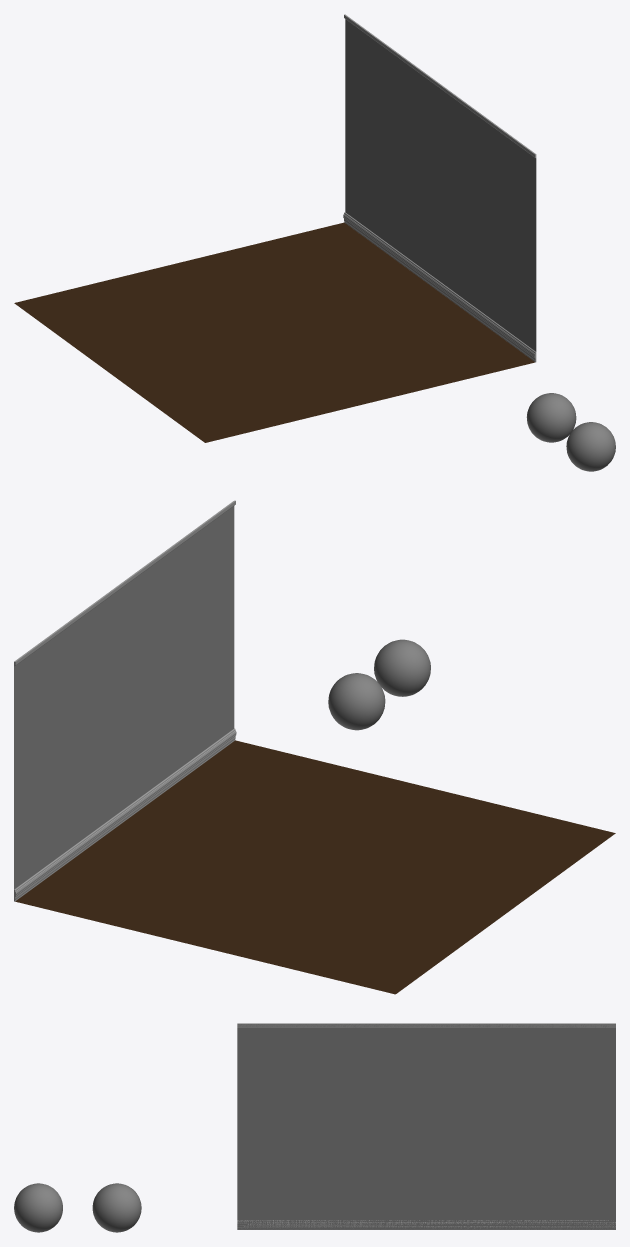
File: Wallpaper FBX Corona.FBX
3 renders of one model, top to bottom at view 1: azimuth 30°, elevation 25°; view 2: azimuth 150°, elevation 25°; view 3: azimuth 270°, elevation 25°, orthographic. The views are drawn at different scales.
Visible parts, largest first — view 1: Parquet, Wall, Baseboard 1, Wallpaper Material 3, Wallpaper Material 2, Baseboard 2; view 2: Parquet, Wall, Baseboard 1, Wallpaper Material 2, Wallpaper Material 3, Baseboard 2; view 3: Wall, Baseboard 1, Wallpaper Material 3, Wallpaper Material 2, Baseboard 2.
Boxes of the visible parts, x1,y1,x2,y2 form: Parquet: [14, 222, 534, 442]; Wall: [345, 19, 536, 351]; Baseboard 1: [343, 212, 536, 362]; Wallpaper Material 3: [566, 422, 615, 471]; Wallpaper Material 2: [526, 393, 576, 442]; Baseboard 2: [344, 14, 536, 157]; Parquet: [15, 740, 615, 994]; Wall: [14, 506, 234, 889]; Baseboard 1: [14, 728, 236, 901]; Wallpaper Material 2: [328, 673, 385, 730]; Wallpaper Material 3: [374, 639, 430, 696]; Baseboard 2: [14, 500, 235, 666]; Wall: [237, 1024, 615, 1229]; Baseboard 1: [237, 1220, 615, 1229]; Wallpaper Material 3: [14, 1183, 62, 1232]; Wallpaper Material 2: [92, 1183, 141, 1232]; Baseboard 2: [237, 1023, 615, 1027].
Bounding box in the file's own units: 500 × 332 × 795.
